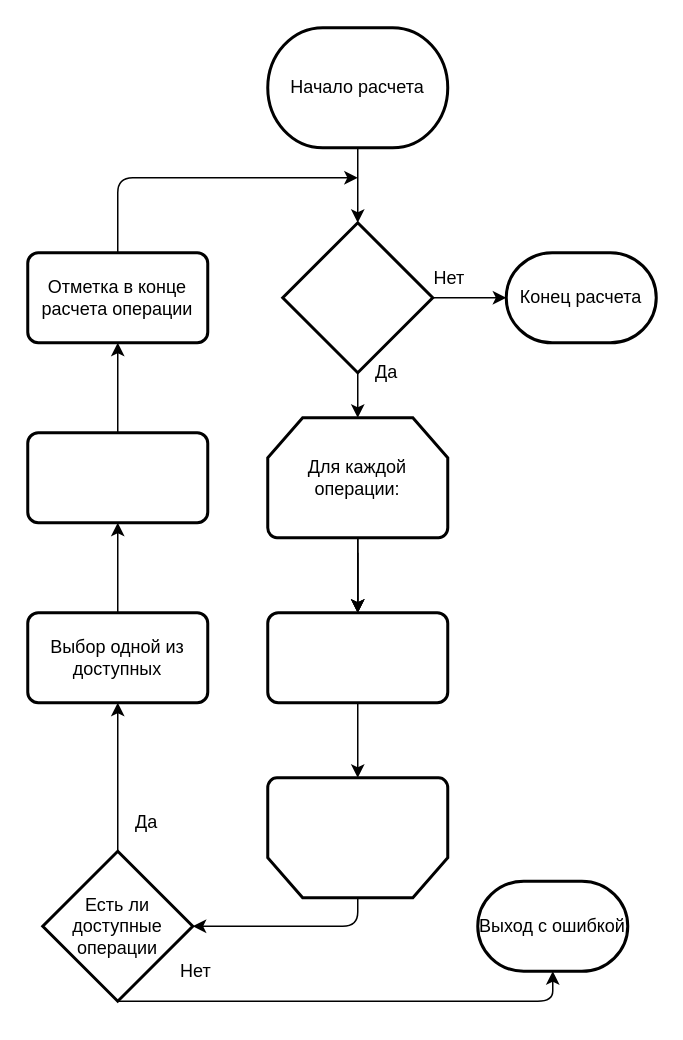
Image size: 683x1040. Some labels were removed from this diagram. Each missing label, with the box of its shape:
Для каждой операции: (266, 776, 448, 898)
Есть ли операции: (280, 220, 434, 374)
Отметка в начале расчета операции: (26, 430, 208, 524)
Проверка возможности выполнения: (266, 610, 448, 704)
